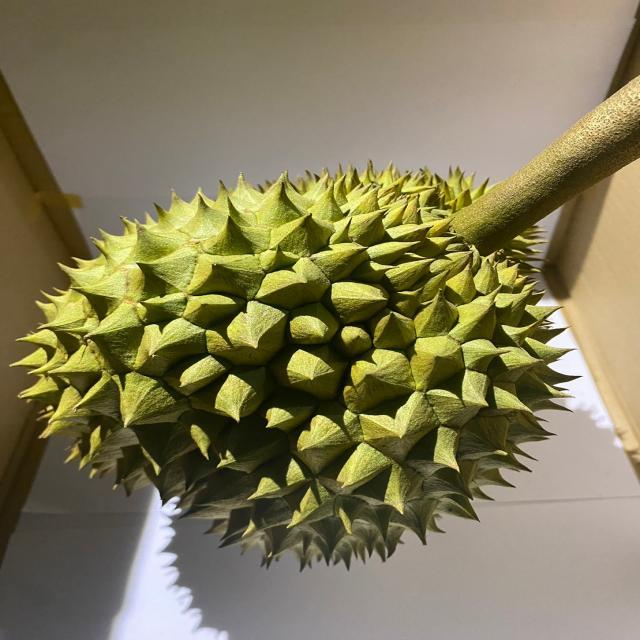immature: (12, 159, 588, 572)
